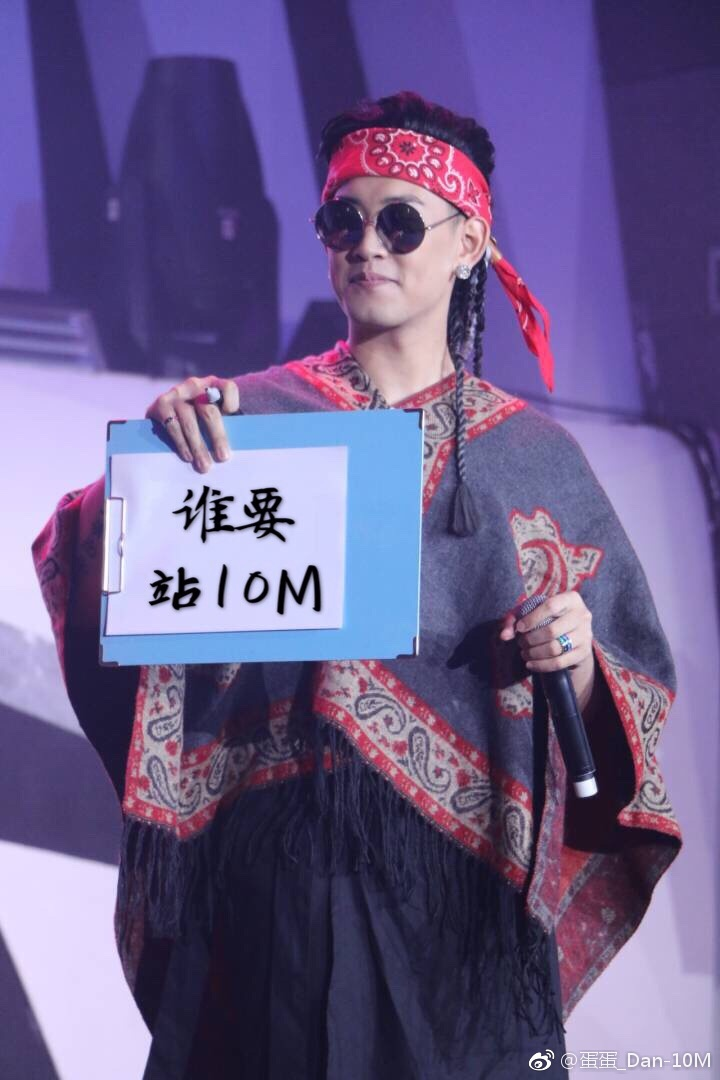handsup: (40, 91, 670, 1066)
